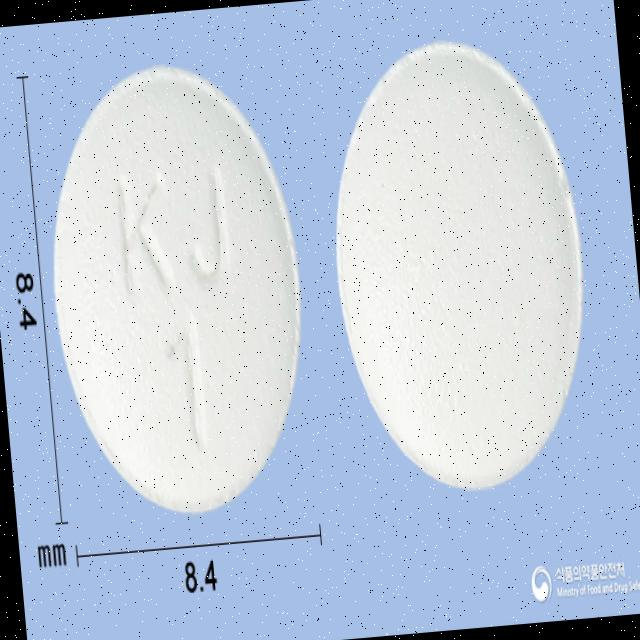Levocacin: (315, 28, 602, 500), (34, 54, 319, 524)
